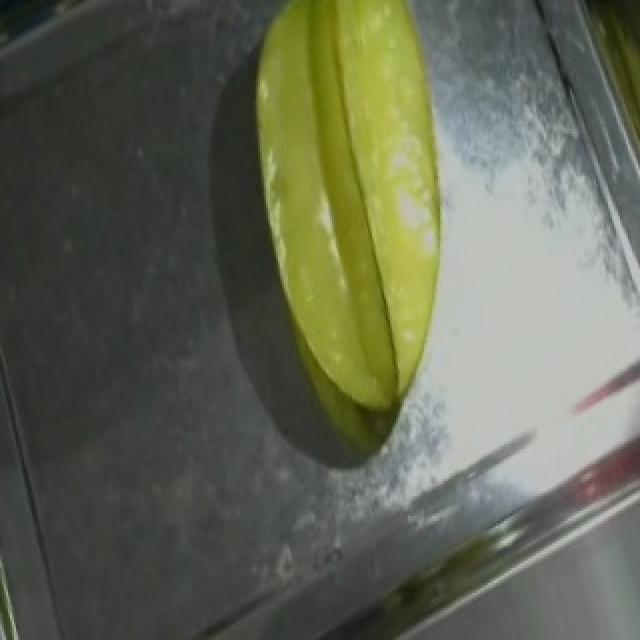fruit: (216, 0, 514, 327)
